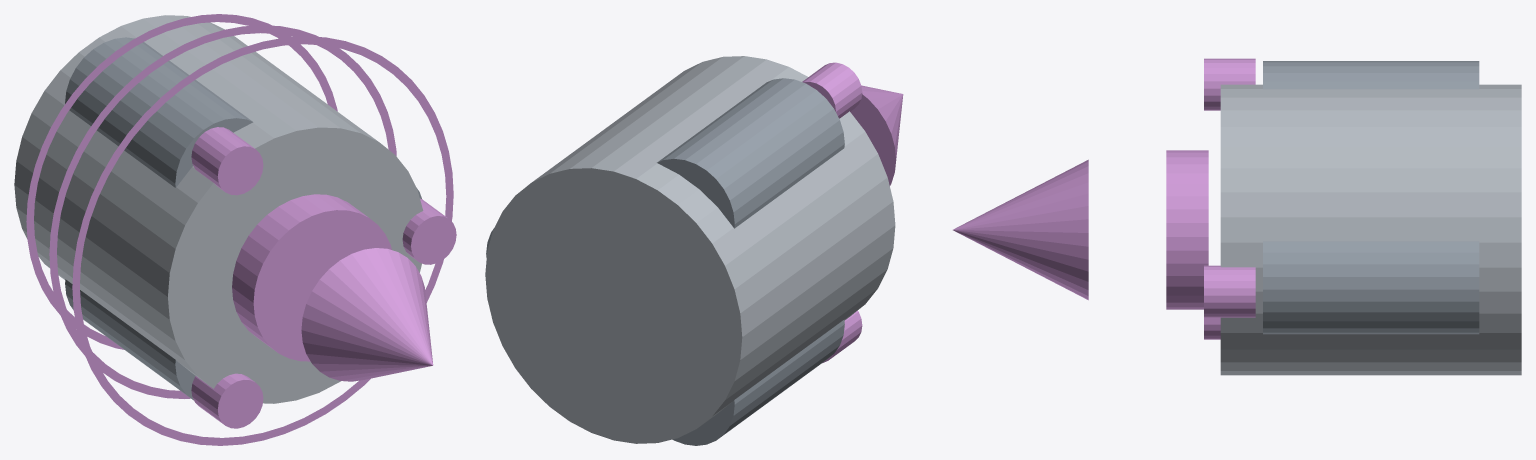
The model's file is thr-3.glb.
3 renders of one model, left to right at view 1: azimuth 30°, elevation 25°; view 2: azimuth 150°, elevation 25°; view 3: azimuth 270°, elevation 25°, orthographic.
Parts seen in each view (by area): view 1: part000, part009, part002, part005, part012, part011, part010, part006, part007, part008, part004; view 2: part000, part005, part007, part009, part006, part008; view 3: part000, part003, part009, part002, part005, part004, part006.
Boxes of the visible parts, left/top/right/bottom form: part000: left=14, top=15, right=423, bottom=403; part009: left=301, top=248, right=433, bottom=381; part002: left=232, top=194, right=391, bottom=361; part005: left=65, top=37, right=253, bottom=187; part012: left=72, top=36, right=453, bottom=445; part011: left=49, top=25, right=396, bottom=398; part010: left=26, top=14, right=337, bottom=349; part006: left=191, top=127, right=263, bottom=195; part007: left=65, top=279, right=195, bottom=400; part008: left=191, top=373, right=263, bottom=428; part004: left=402, top=198, right=456, bottom=264; part000: left=485, top=56, right=895, bottom=443; part005: left=657, top=78, right=844, bottom=228; part007: left=672, top=320, right=844, bottom=445; part009: left=850, top=85, right=903, bottom=185; part006: left=802, top=62, right=862, bottom=118; part008: left=822, top=310, right=862, bottom=363; part000: left=1220, top=84, right=1521, bottom=375; part003: left=1263, top=241, right=1479, bottom=334; part009: left=953, top=159, right=1088, bottom=300; part002: left=1166, top=150, right=1208, bottom=309; part005: left=1263, top=61, right=1479, bottom=89; part004: left=1204, top=265, right=1255, bottom=317; part006: left=1204, top=58, right=1255, bottom=110.
Size of the model in its own units: 1.84 by 1.84 by 2.42.
